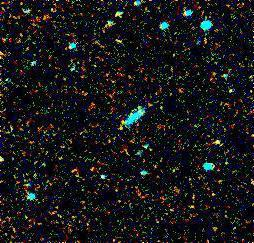star: (105, 109, 135, 139)
